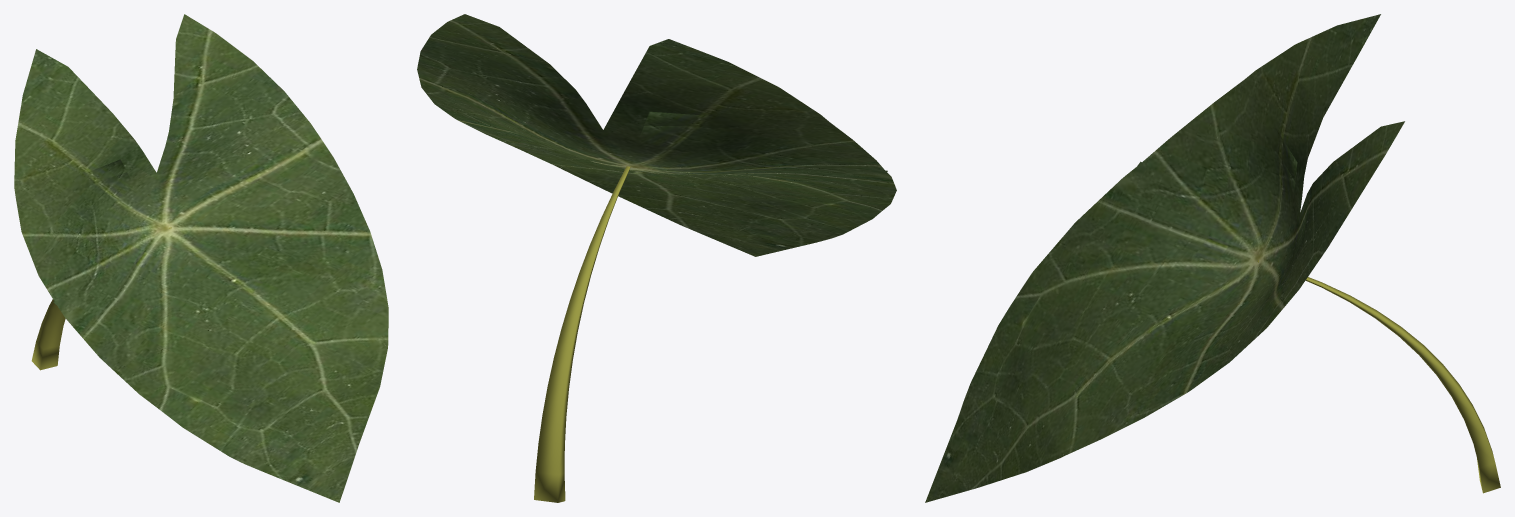
The model's file is Leaf_7.dae.
The picture shows the model from 3 angles, left to right: view 1: azimuth 30°, elevation 25°; view 2: azimuth 150°, elevation 25°; view 3: azimuth 270°, elevation 25°; orthographic projection. The views are drawn at different scales.
Visible parts, largest first — view 1: group_2, group_1; view 2: group_2, group_1; view 3: group_2, group_1.
Part boxes in pixels (bbox=[...]): group_2: bbox=[14, 14, 388, 502]; group_1: bbox=[31, 227, 171, 370]; group_2: bbox=[417, 14, 896, 256]; group_1: bbox=[534, 166, 630, 502]; group_2: bbox=[925, 14, 1404, 502]; group_1: bbox=[1257, 260, 1500, 493].
Bounding box in the file's own units: 4.91 × 5.93 × 5.02.
2 materials, 1 textured.
